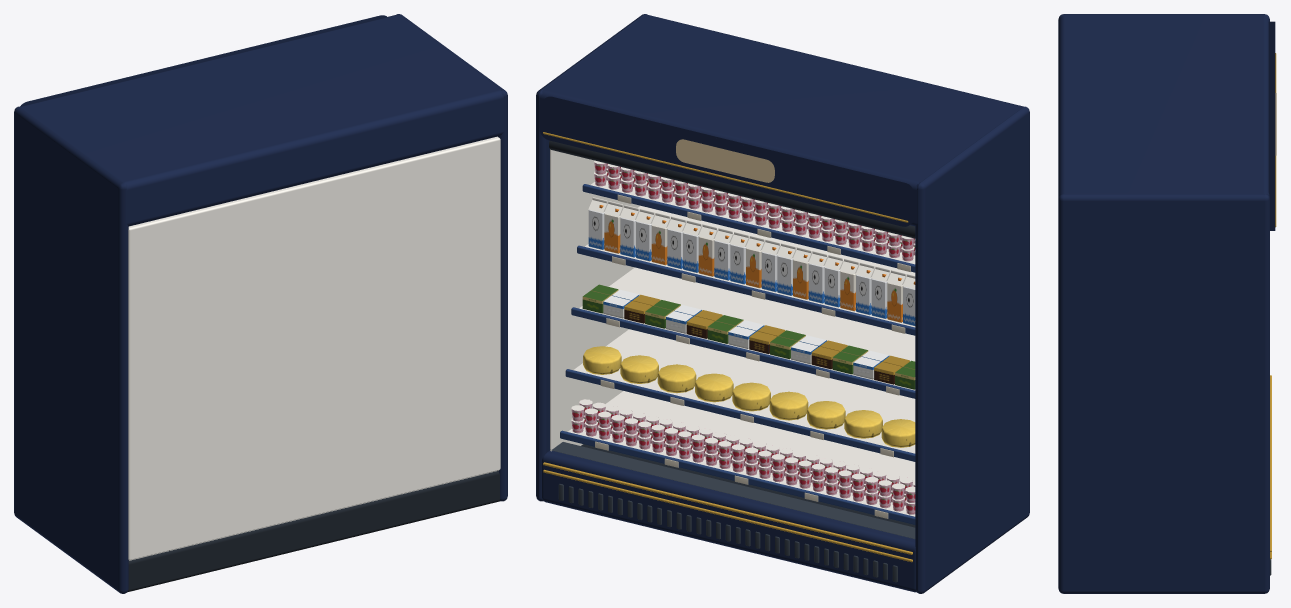
The model's file is dairy_T3.fbx.
The picture shows the model from 3 angles, left to right: view 1: azimuth 30°, elevation 25°; view 2: azimuth 150°, elevation 25°; view 3: azimuth 270°, elevation 25°; orthographic projection. The views are drawn at different scales.
Visible parts, largest first — view 1: Body; view 2: Body, Anim Fill 0, Anim Fill 1, Anim Fill 2, Anim Fill 3; view 3: Body.
Part boxes in pixels (x1,y1,x2,y2): Body: [14, 14, 507, 593]; Body: [536, 14, 1029, 593]; Anim Fill 0: [571, 160, 701, 452]; Anim Fill 1: [657, 183, 785, 472]; Anim Fill 2: [745, 203, 868, 495]; Anim Fill 3: [838, 226, 915, 514]; Body: [1058, 14, 1276, 593].
Size of the model in its own units: 1.98 by 2 by 0.99.
